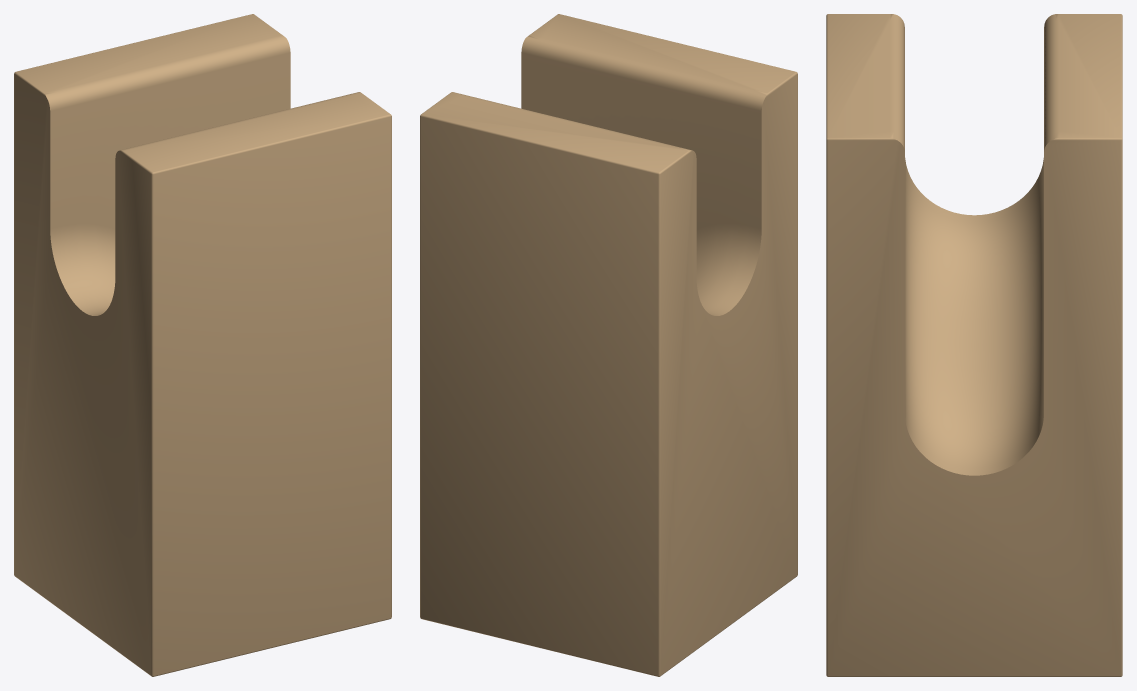
File: blk_slope_steep_l1.glb
The picture shows the model from 3 angles, left to right: view 1: azimuth 30°, elevation 25°; view 2: azimuth 150°, elevation 25°; view 3: azimuth 270°, elevation 25°; orthographic projection. The views are drawn at different scales.
Visible parts, largest first — view 1: blk_slope_steep_l1_lod0; view 2: blk_slope_steep_l1_lod0; view 3: blk_slope_steep_l1_lod0.
Part boxes in pixels (x1=…): blk_slope_steep_l1_lod0: x1=14, y1=14, x2=391, y2=676; blk_slope_steep_l1_lod0: x1=420, y1=14, x2=797, y2=676; blk_slope_steep_l1_lod0: x1=826, y1=14, x2=1122, y2=676.
Size of what is drawn, in the model's own units: 0.0596 by 0.1196 by 0.0596.
